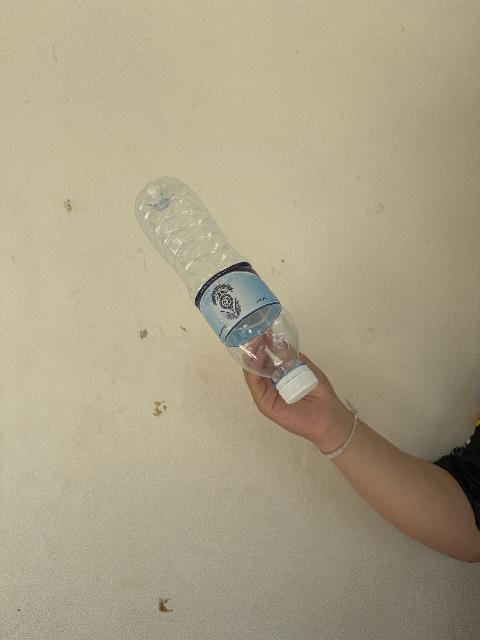bottle: (136, 177, 317, 403)
